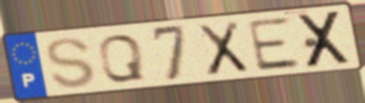7: (149, 23, 189, 84)
E: (244, 15, 304, 74)
Q: (96, 33, 148, 84)
S: (44, 36, 98, 91)
X: (296, 8, 354, 70), (194, 19, 251, 79)
